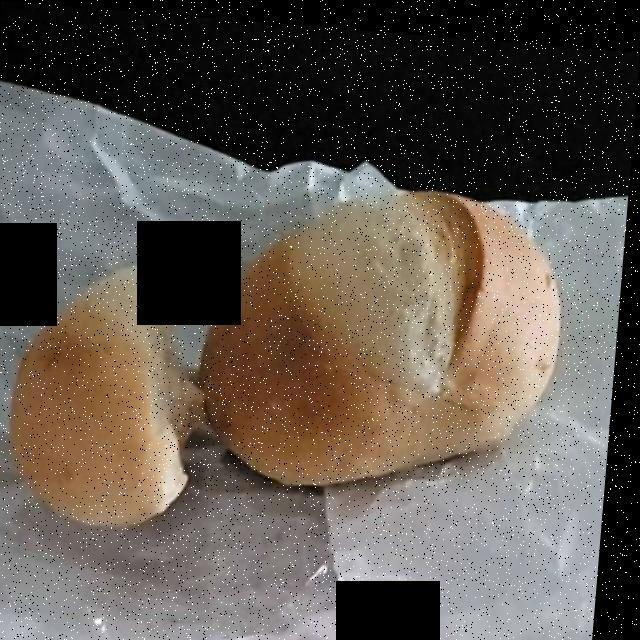bread: (16, 171, 569, 539)
